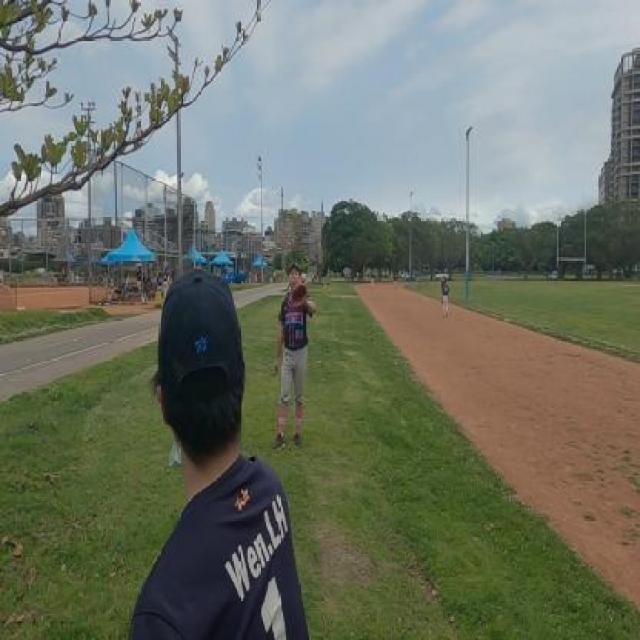baseball: (300, 271, 306, 284)
